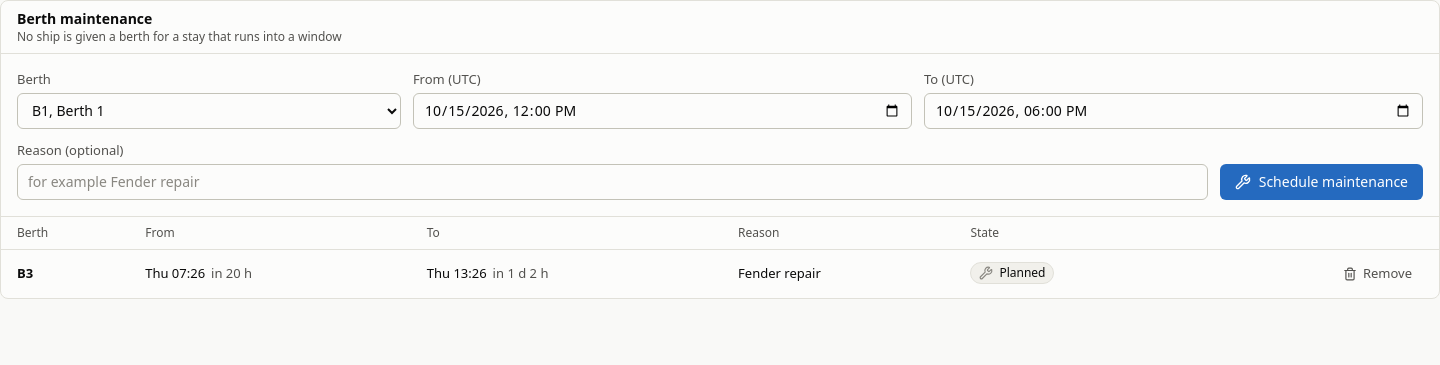
Test: MaintenancePanel › catches a window that ends before it starts, and shows a refusal with readable times
The image size is (1440, 365).
Replace the text in the field labelled "To (UTC)" with "2020-01-01T00:00" at (1173, 111), box left=924, top=93, right=1423, bottom=129
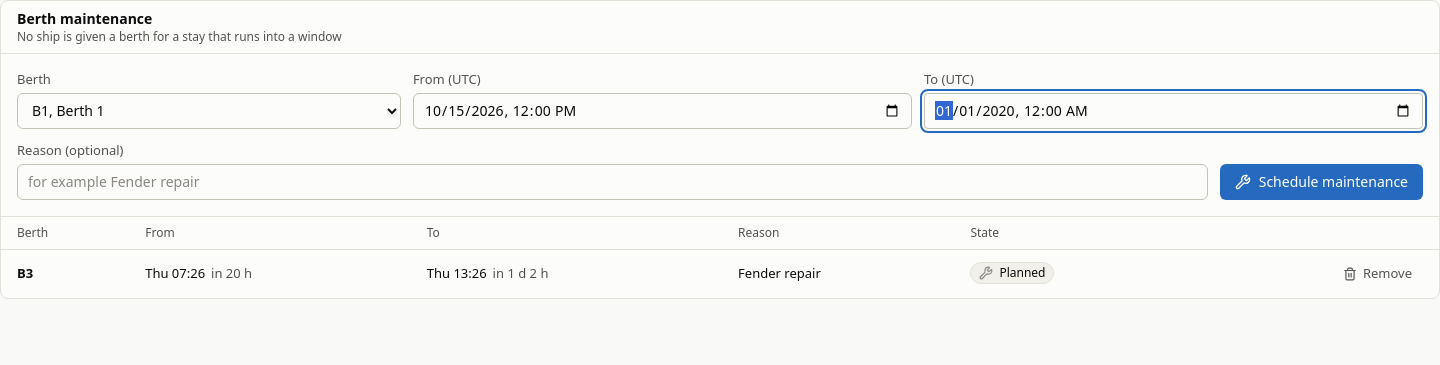
Click the button "Schedule maintenance" at (1321, 182), box left=1220, top=164, right=1423, bottom=200
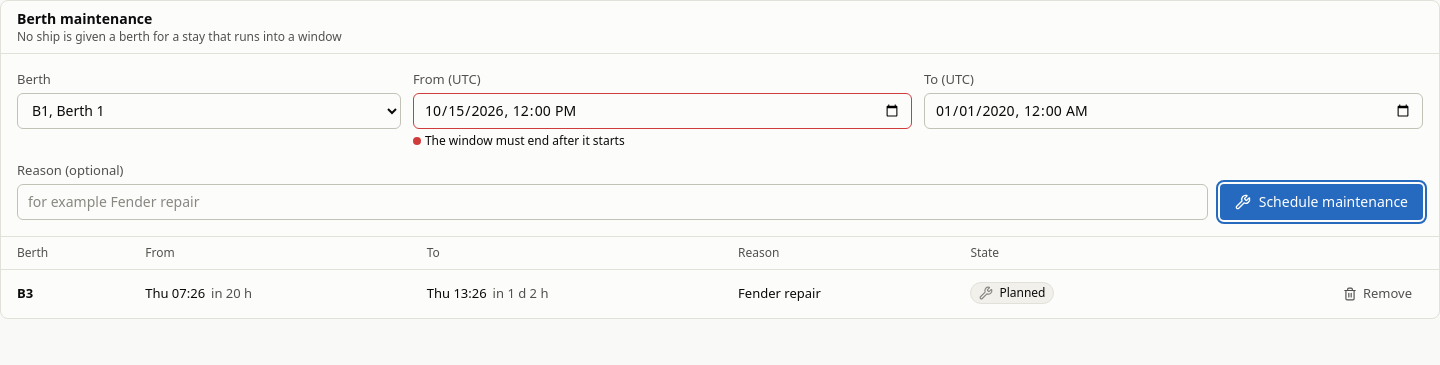
Now the text "The window must end after it starts" is shown, box left=413, top=132, right=625, bottom=149
Replace the text in the field labelled "From (UTC)" with "2030-01-10T08:00" at (662, 111), box left=413, top=93, right=912, bottom=129
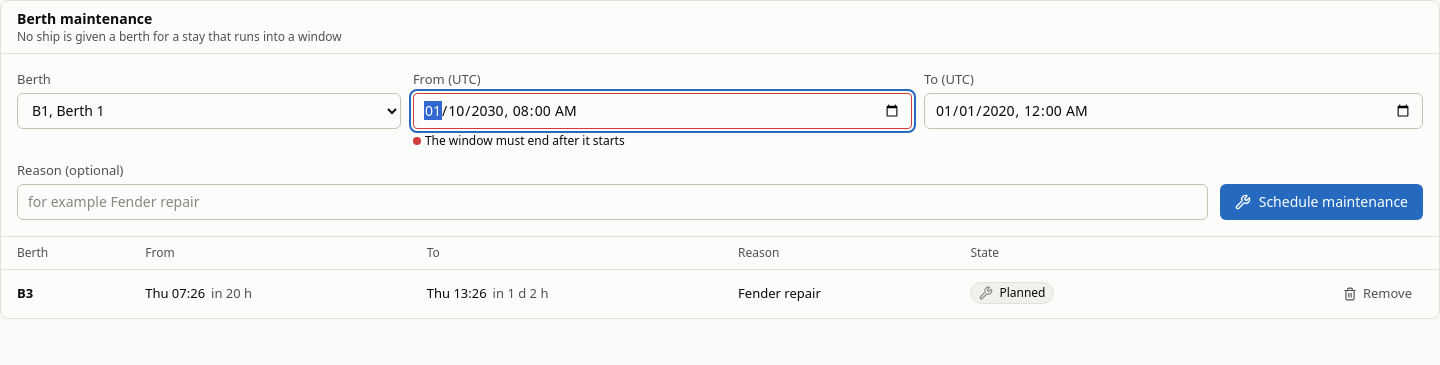
Replace the text in the field labelled "To (UTC)" with "2030-01-10T14:00" at (1173, 111), box left=924, top=93, right=1423, bottom=129
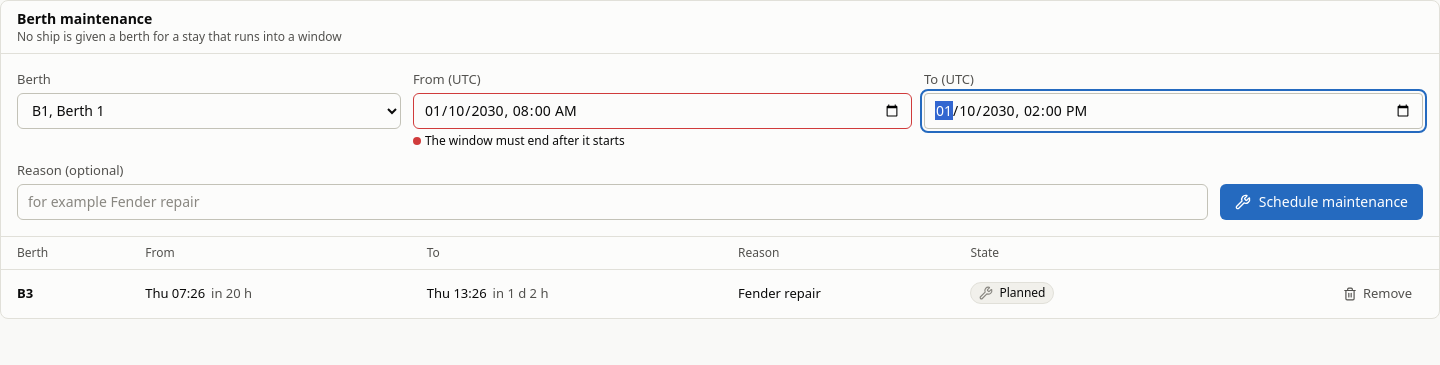
Click the button "Schedule maintenance" at (1321, 202), box left=1220, top=184, right=1423, bottom=220
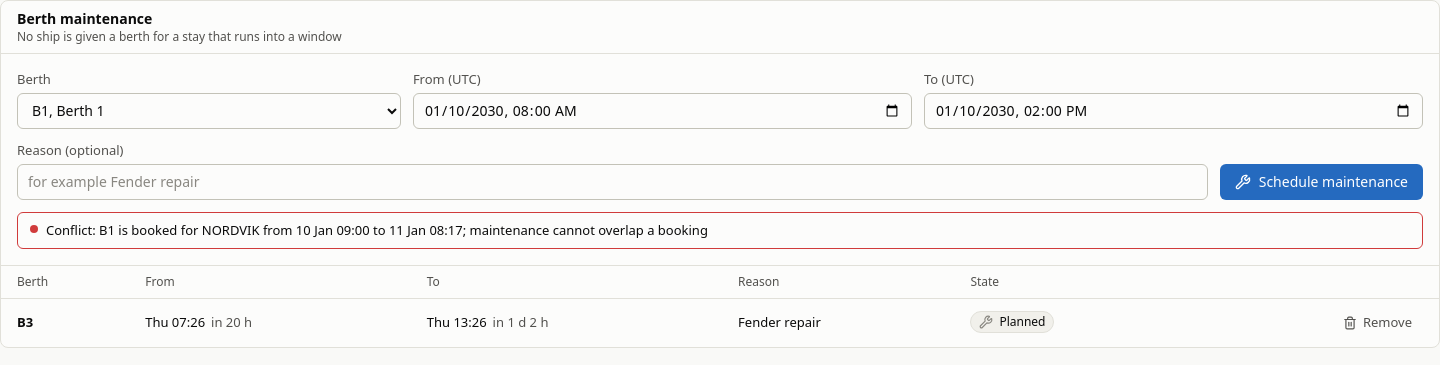
Now the message shows "B1 is booked for NORDVIK from 10 Jan 09:00 to 11 Jan 08:17", box left=46, top=221, right=708, bottom=239
